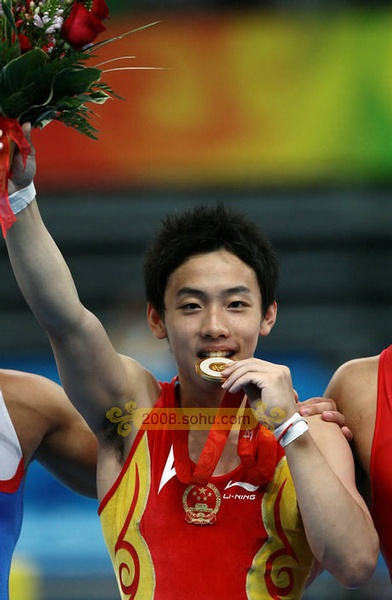face: (170, 260, 258, 384)
